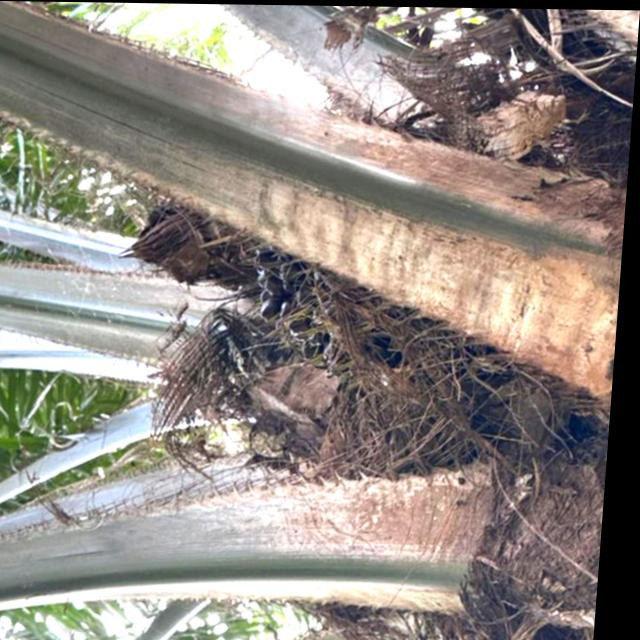unripe: (234, 207, 553, 409)
